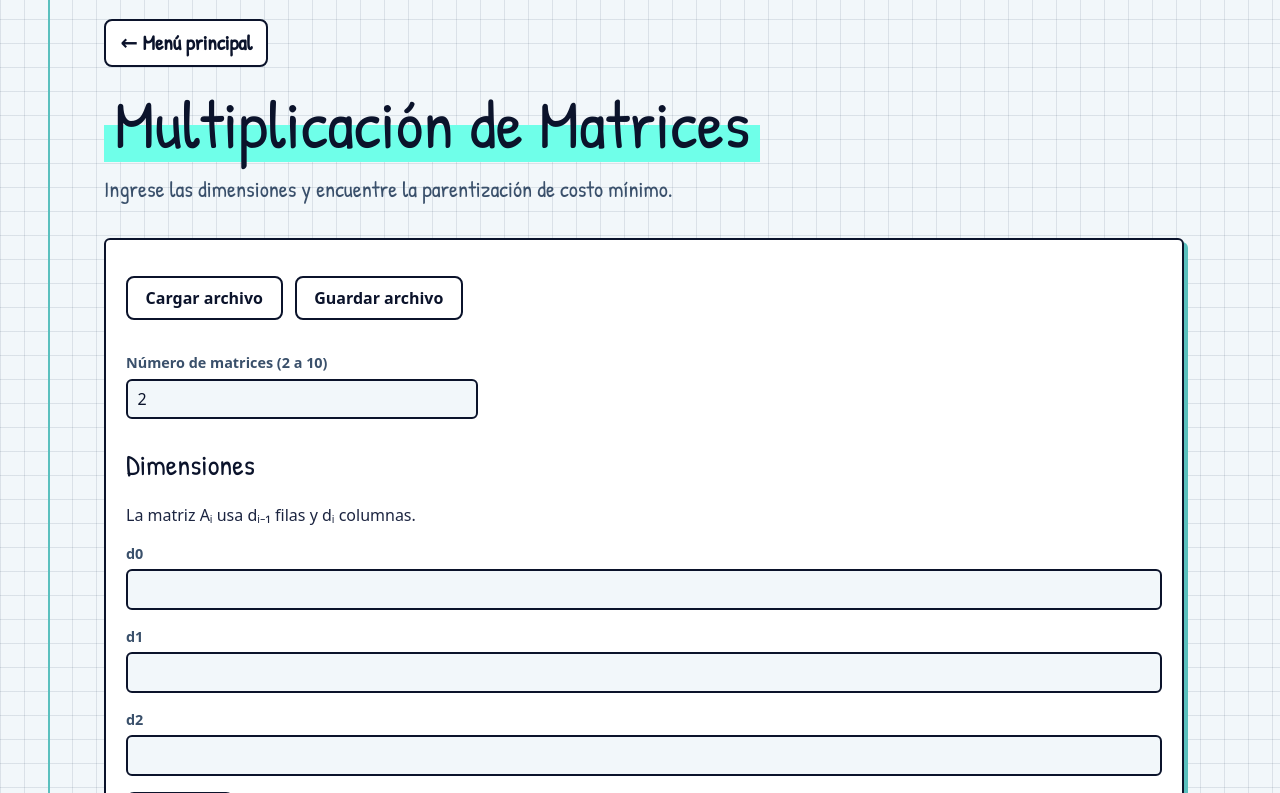
Página de multiplicación de matrices › envía las dimensiones y muestra M, P y la parentización
Type "30" into the field labelled "d0". click: (644, 589)
box: x1=126 y1=569 x2=1162 y2=610
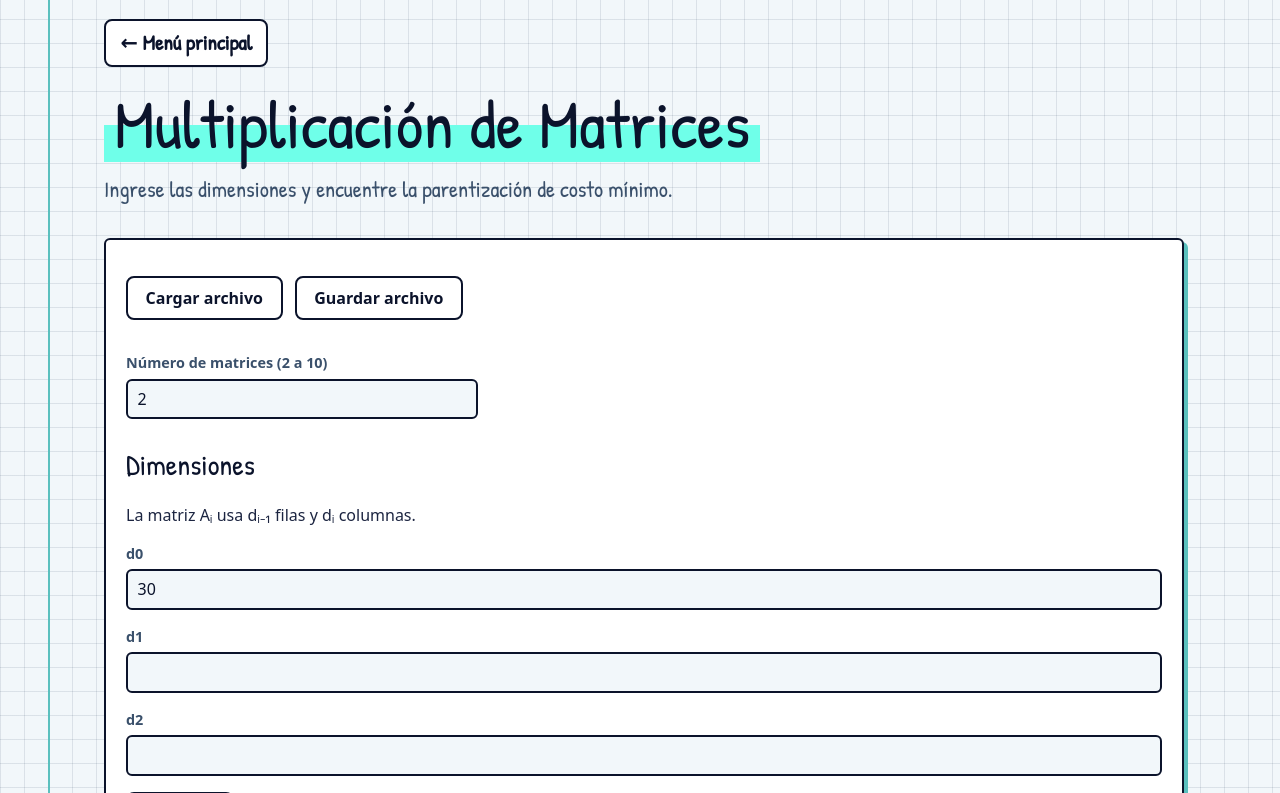
Type "35" into the field labelled "d1". click: (644, 672)
box: x1=126 y1=652 x2=1162 y2=693
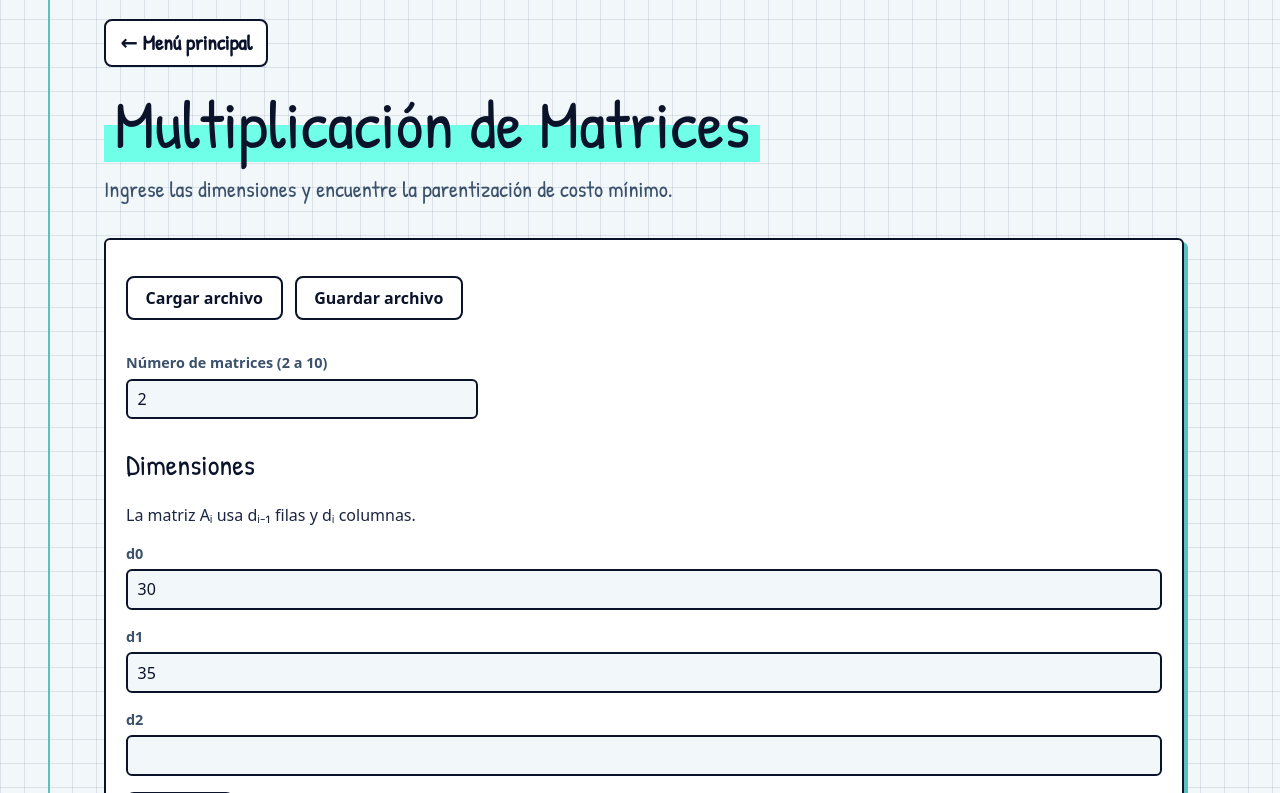
Type "15" into the field labelled "d2". click: (644, 756)
box: x1=126 y1=735 x2=1162 y2=776
(page scrolled)
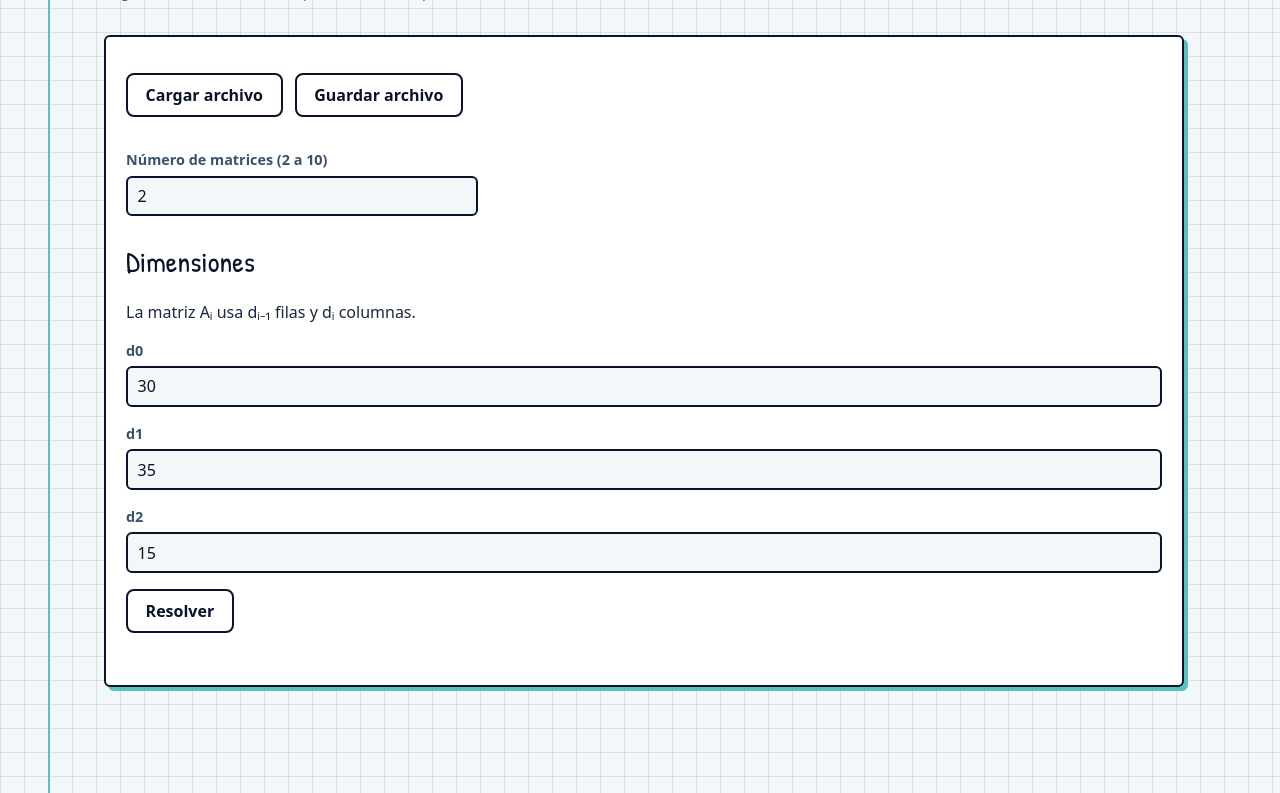
Click the button "Resolver". click: (180, 611)
box: x1=126 y1=589 x2=234 y2=633
(page scrolled)
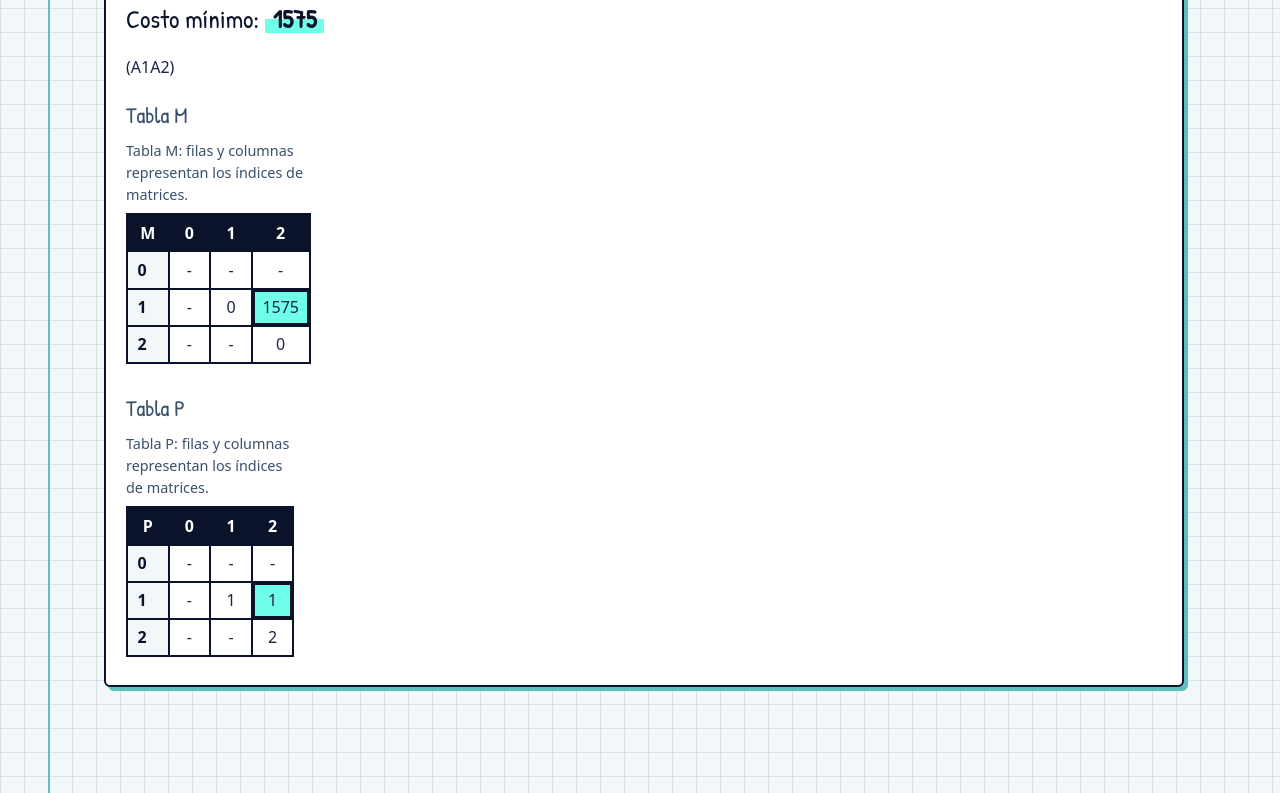
Expected: the text "(A1A2)" is shown, x1=126 y1=56 x2=174 y2=78
Expected: the heading "Tabla M" is shown, x1=126 y1=100 x2=188 y2=130
Expected: the heading "Tabla P" is shown, x1=126 y1=393 x2=185 y2=423
